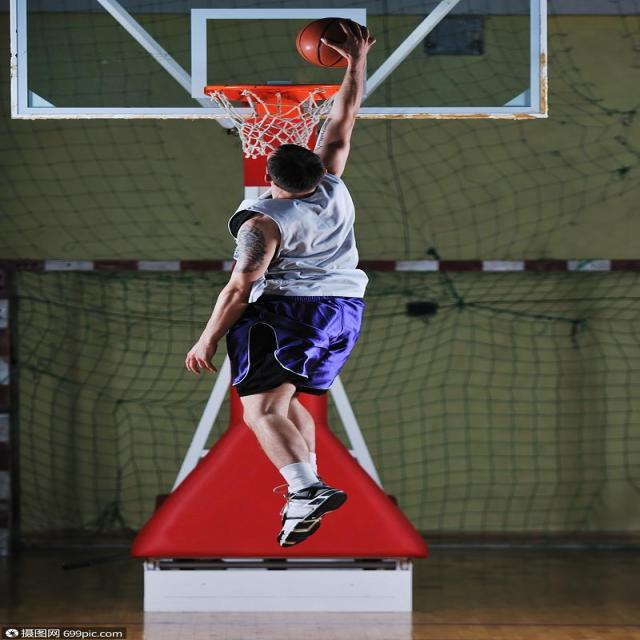rim: (295, 15, 377, 76)
